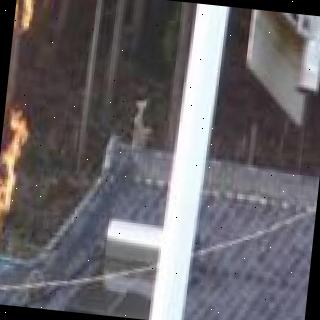fire: (0, 0, 46, 250)
